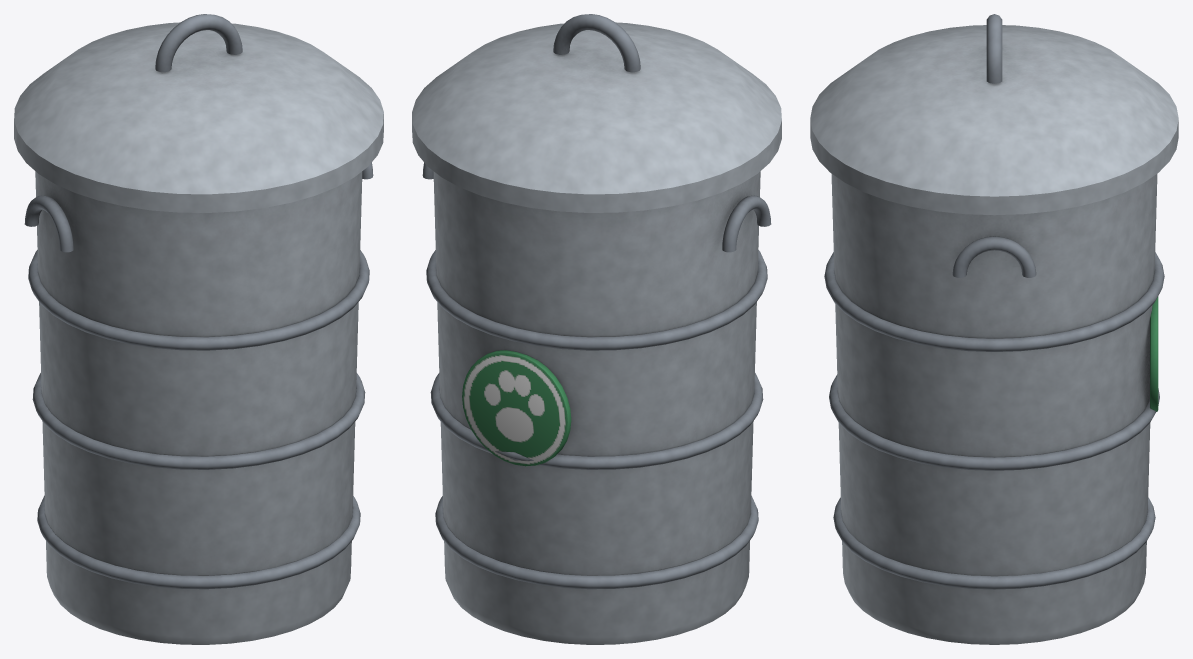
File: TrashCan.fbx
The picture shows the model from 3 angles, left to right: view 1: azimuth 30°, elevation 25°; view 2: azimuth 150°, elevation 25°; view 3: azimuth 270°, elevation 25°; orthographic projection.
Parts seen in each view (by area): view 1: TrashCan; view 2: TrashCan; view 3: TrashCan.
Boxes of the visible parts, x1,y1,x2,y2 form: TrashCan: (14, 14, 383, 644); TrashCan: (412, 14, 781, 644); TrashCan: (810, 14, 1178, 644).
Bounding box in the file's own units: 1.8 × 3.04 × 1.8.
1 material, 1 textured.
